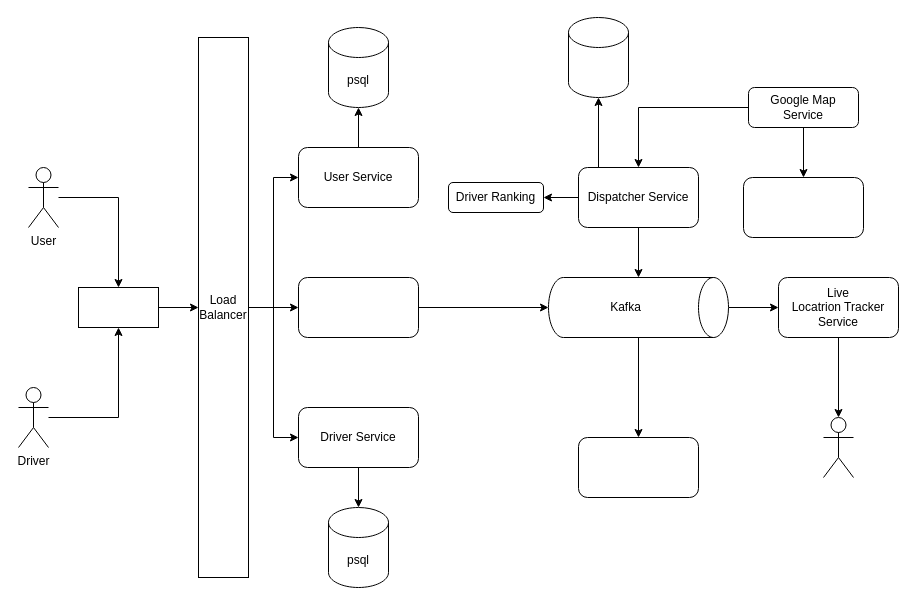
This 916x605 diagram has some shape labels left out. The shapes that lost their labels are listed below. From the top down, each one's box as (x1, y1, x2, y2) in pixels, then its label:
(568, 16, 628, 98): mongo
(742, 176, 864, 238): Location Service
(78, 286, 158, 328): Firewall
(298, 276, 418, 338): Booking Service
(578, 436, 698, 498): Analytics
(822, 416, 854, 478): Actor
